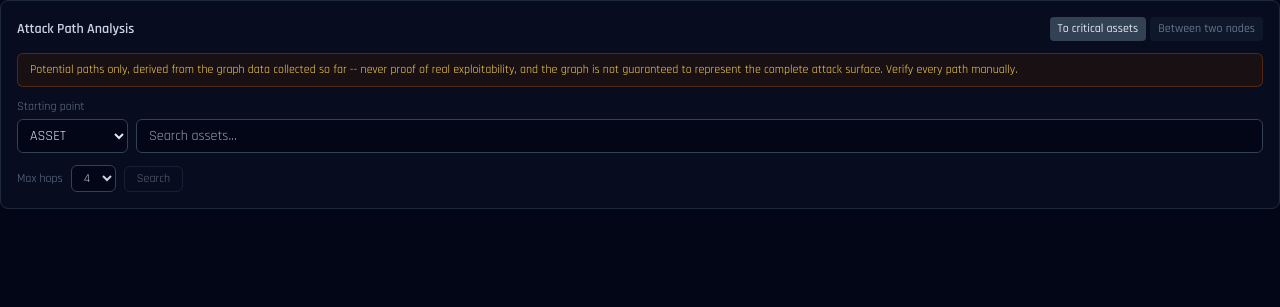
Test: AttackPaths › shows 'No potential path found' when the API returns zero paths
Step 1. Type "entry" into the field with id "graph-search-input" → (700, 136), box [136,119,1263,153]
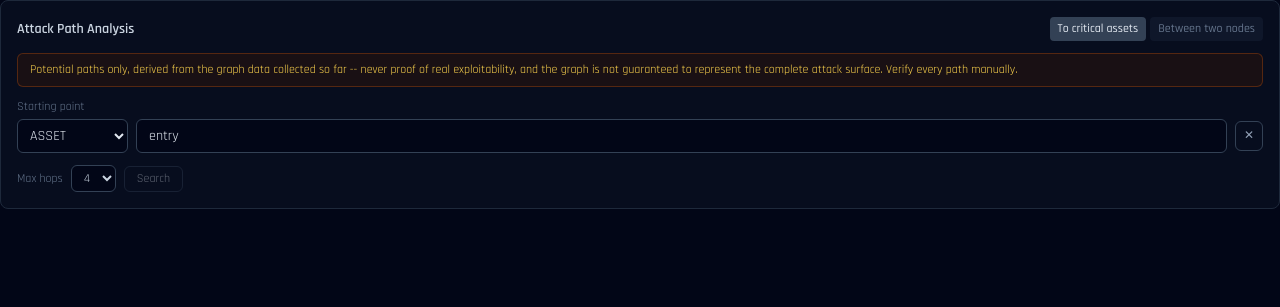
Step 2. Press Enter in the field with id "graph-search-input", box [136,119,1227,153]
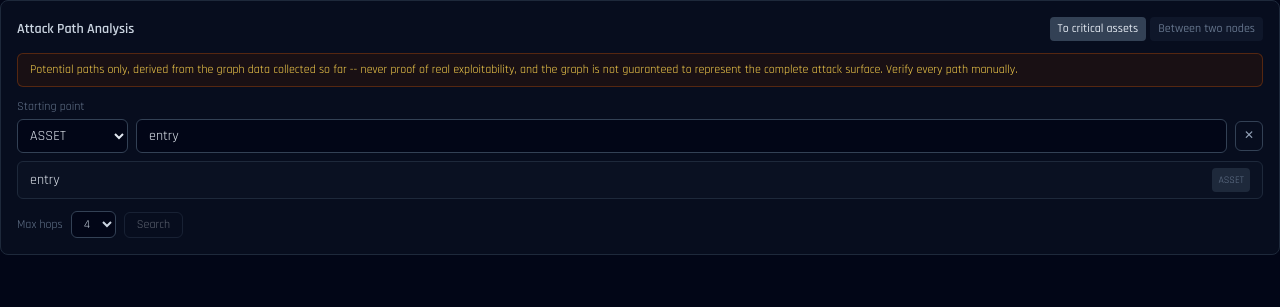
Step 3. Click the option "entry ASSET" → (1231, 180), box [17,161,1263,199]
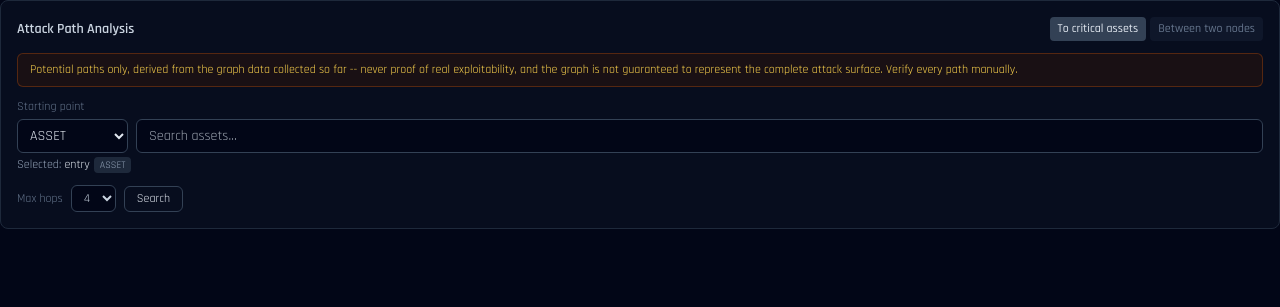
Step 4. Click the button "Search" → (153, 198), box [124,186,183,212]
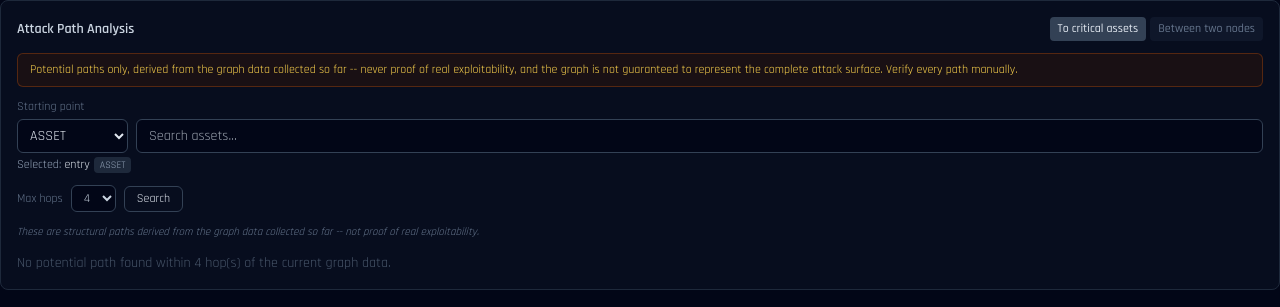
Result: the text "No potential path found" is shown at [17,254,391,272]
